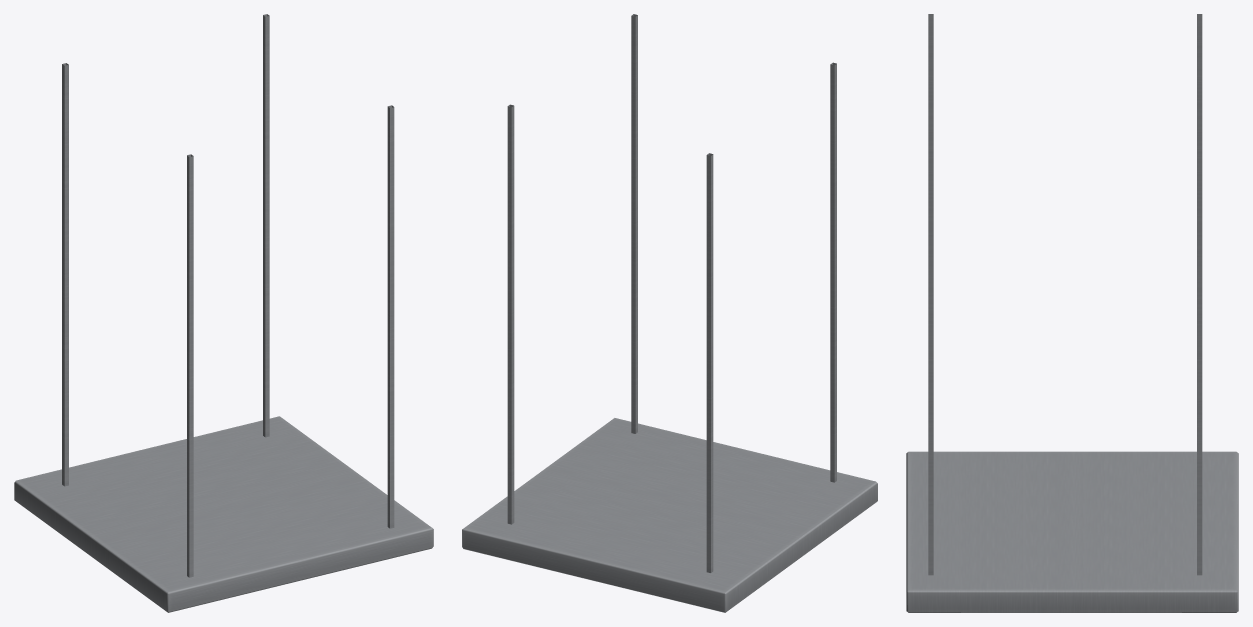
File: HangingLight.fbx
3 views of the same model, side by side, from view 1: azimuth 30°, elevation 25°; view 2: azimuth 150°, elevation 25°; view 3: azimuth 270°, elevation 25° (orthographic). The views are drawn at different scales.
Visible parts, largest first — view 1: HangingLight; view 2: HangingLight; view 3: HangingLight.
Part boxes in pixels (left/top/right/bottom): HangingLight: left=14, top=14, right=433, bottom=612; HangingLight: left=462, top=14, right=877, bottom=612; HangingLight: left=906, top=14, right=1238, bottom=612.
Bounding box in the file's own units: 94.36 × 149 × 94.36.
